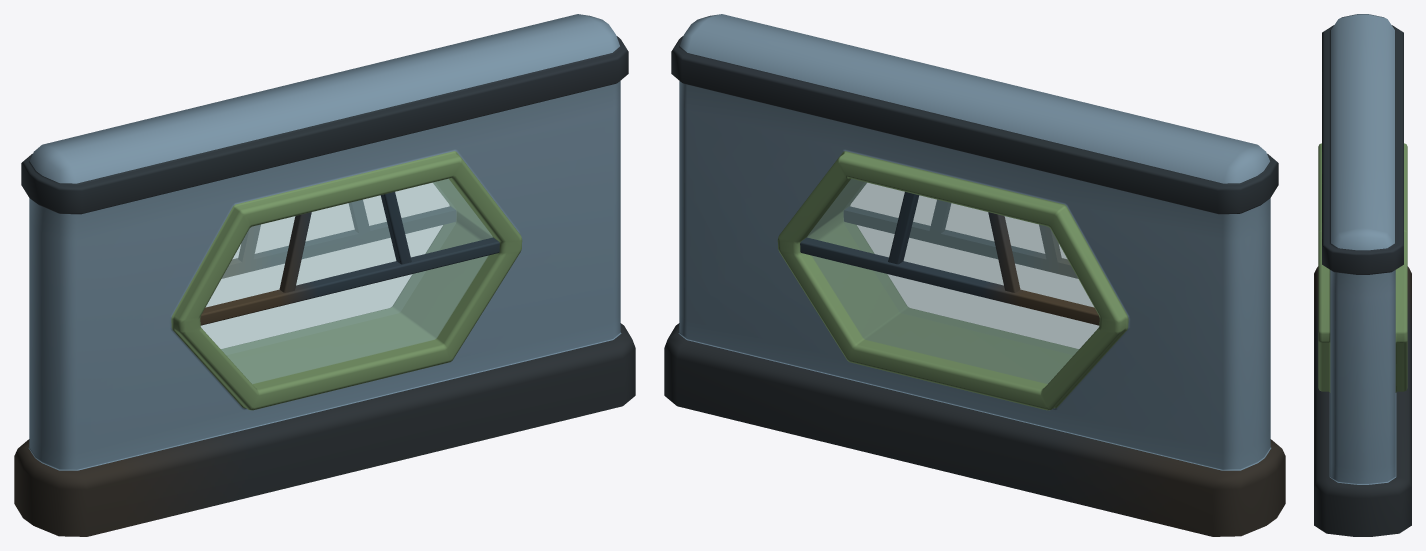
Rendered from Env1_Window.fbx.
The picture shows the model from 3 angles, left to right: view 1: azimuth 30°, elevation 25°; view 2: azimuth 150°, elevation 25°; view 3: azimuth 270°, elevation 25°; orthographic projection. The views are drawn at different scales.
Visible parts, largest first — view 1: Env1_Window; view 2: Env1_Window; view 3: Env1_Window.
Boxes of the visible parts, x1,y1,x2,y2 form: Env1_Window: (14, 14, 635, 536); Env1_Window: (664, 14, 1285, 536); Env1_Window: (1314, 14, 1411, 536).
Bounding box in the file's own units: 3.32 × 0.5824 × 1.95.
